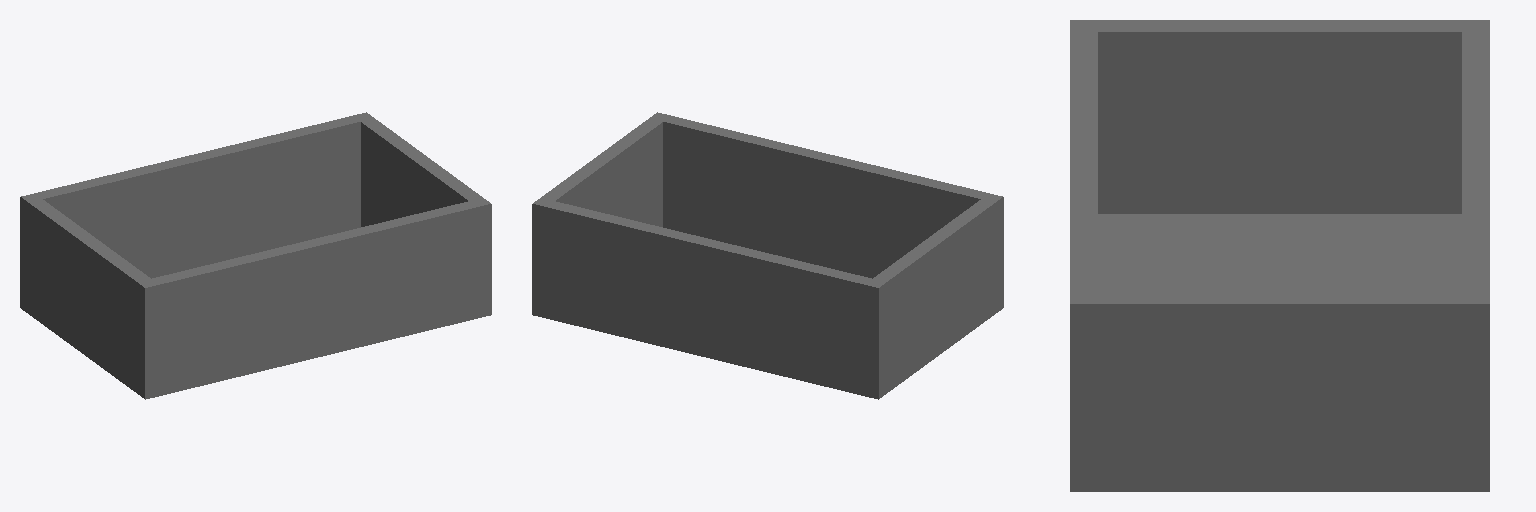
robot.urdf — bin_tote:
<?xml version="1.0" ?>
<!-- Bin tote: bottom slab + four walls. Wall height reduced to 0.185 m (from
     the original 0.1905 m / 7.5"). Origin sits at the bottom slab's center
     in X/Y, with the bottom slab below z=0 (origin "-0.09275") so the slab
     bottom face is at z = -0.09525 in link frame. -->
<robot name="bin_tote">
  <link name="bin_tote_link">
    <!-- Bottom -->
    <visual>
      <geometry>
        <box size="0.6096 0.381 0.005"/>
      </geometry>
      <origin xyz="0 0 -0.09275"/>
      <material name="tote_color">
        <color rgba="0.5 0.5 0.5 1.0"/>
      </material>
    </visual>
    <!-- Back wall (-X) -->
    <visual>
      <geometry>
        <box size="0.025 0.381 0.185"/>
      </geometry>
      <origin xyz="-0.2923 0 0"/>
      <material name="tote_color"/>
    </visual>
    <collision>
      <geometry>
        <box size="0.025 0.381 0.185"/>
      </geometry>
      <origin xyz="-0.2923 0 0"/>
    </collision>
    <!-- Front wall (+X) -->
    <visual>
      <geometry>
        <box size="0.025 0.381 0.185"/>
      </geometry>
      <origin xyz="0.2923 0 0"/>
      <material name="tote_color"/>
    </visual>
    <collision>
      <geometry>
        <box size="0.025 0.381 0.185"/>
      </geometry>
      <origin xyz="0.2923 0 0"/>
    </collision>
    <!-- Right wall (-Y) -->
    <visual>
      <geometry>
        <box size="0.6096 0.025 0.185"/>
      </geometry>
      <origin xyz="0 -0.178 0"/>
      <material name="tote_color"/>
    </visual>
    <collision>
      <geometry>
        <box size="0.6096 0.025 0.185"/>
      </geometry>
      <origin xyz="0 -0.178 0"/>
    </collision>
    <!-- Left wall (+Y) -->
    <visual>
      <geometry>
        <box size="0.6096 0.025 0.185"/>
      </geometry>
      <origin xyz="0 0.178 0"/>
      <material name="tote_color"/>
    </visual>
    <collision>
      <geometry>
        <box size="0.6096 0.025 0.185"/>
      </geometry>
      <origin xyz="0 0.178 0"/>
    </collision>
    <inertial>
      <mass value="1"/>
      <inertia ixx="1.0" ixy="0.0" ixz="0.0" iyy="1.0" iyz="0.0" izz="1.0"/>
    </inertial>
  </link>
</robot>

--- Render facts (derived) ---
3 views of the same robot in one strip: view 1: azimuth 30°, elevation 25°; view 2: azimuth 150°, elevation 25°; view 3: azimuth 270°, elevation 25° (orthographic).
Model bin_tote with 1 links and 0 joints (none), rooted at bin_tote_link, posed every joint at zero.
Links seen in each view (by area): view 1: bin_tote_link; view 2: bin_tote_link; view 3: bin_tote_link.
Link boxes in pixels (bbox=[...]): bin_tote_link: bbox=[20, 112, 491, 399]; bin_tote_link: bbox=[532, 112, 1003, 399]; bin_tote_link: bbox=[1070, 20, 1489, 491].
Bounding box of the posed robot: 0.6096 × 0.381 × 0.1878 m (x, y, z).
Geometry: primitives only (box / cylinder / sphere), no mesh files.
